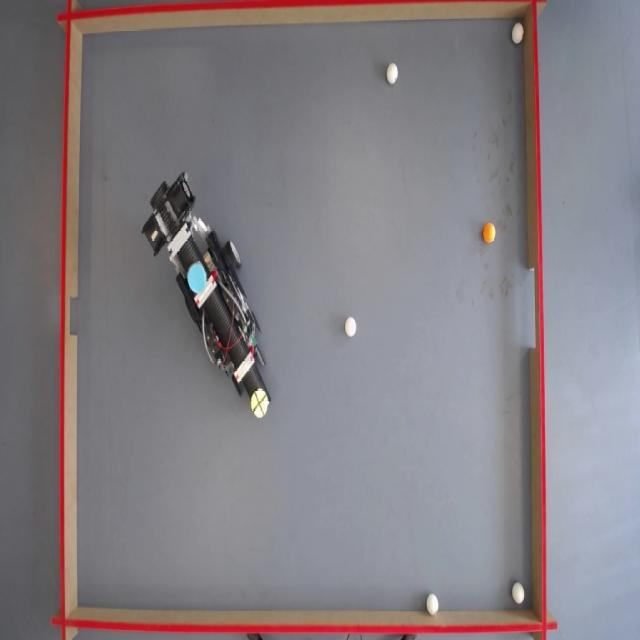orange: (484, 224, 498, 244)
robot: (142, 167, 271, 414)
robot-front: (251, 388, 268, 420)
robot-rear: (186, 262, 207, 294)
white: (513, 584, 527, 606), (512, 24, 526, 46), (426, 593, 440, 615), (386, 64, 399, 85), (345, 317, 358, 337)
